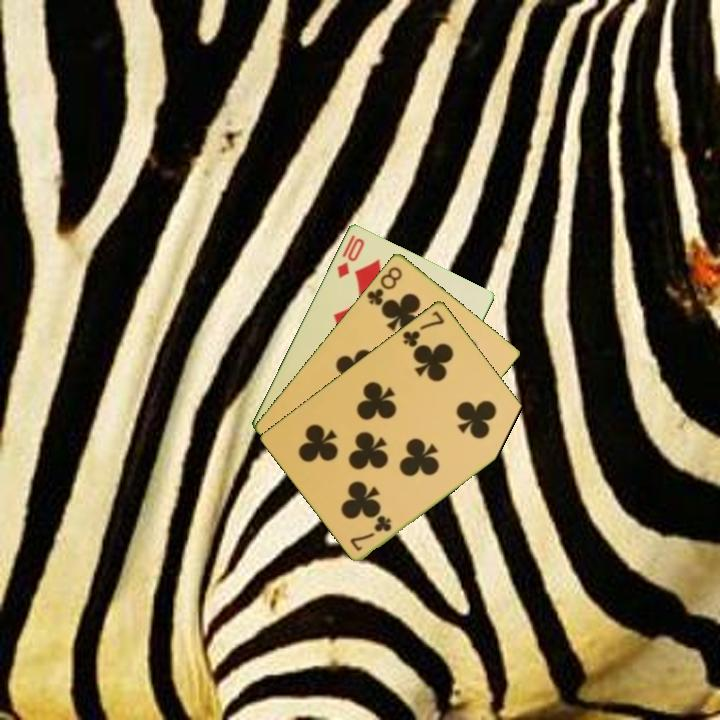10d: (333, 231, 367, 281)
7c: (399, 307, 447, 350), (346, 512, 395, 554)
8c: (363, 263, 405, 308)
